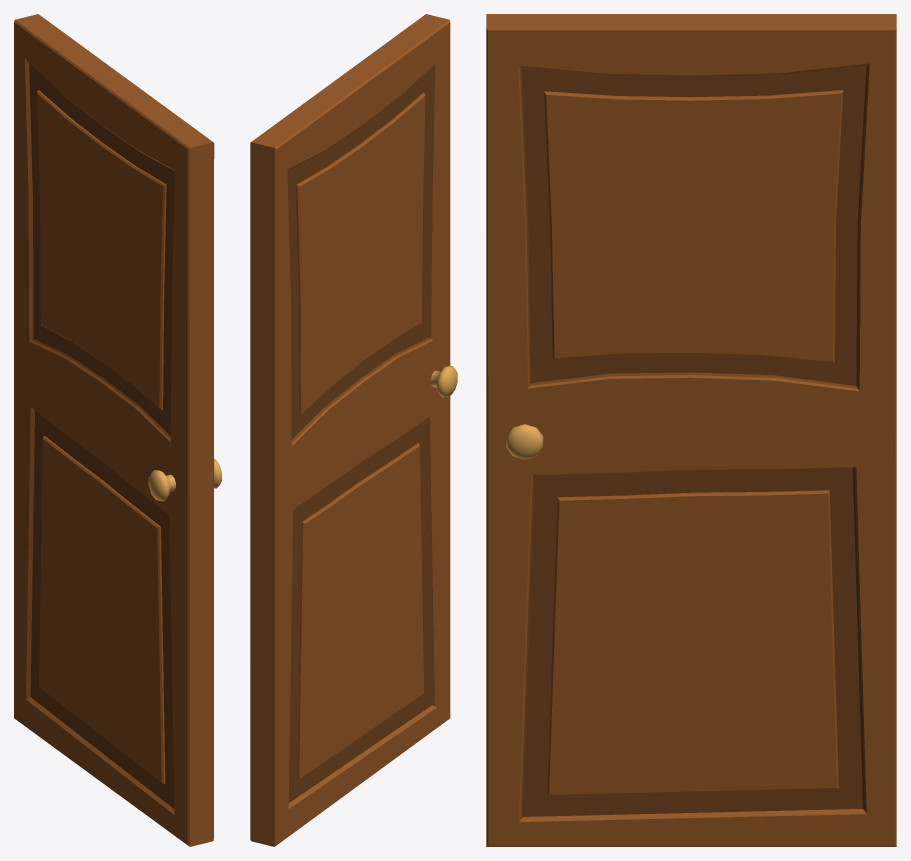
File: Door.fbx
3 views of the same model, side by side, from view 1: azimuth 30°, elevation 25°; view 2: azimuth 150°, elevation 25°; view 3: azimuth 270°, elevation 25° (orthographic). The views are drawn at different scales.
Parts seen in each view (by area): view 1: Door; view 2: Door; view 3: Door.
Part boxes in pixels (<box>): Door: <box>14,14,221,846</box>; Door: <box>250,14,457,846</box>; Door: <box>486,14,896,846</box>.
Size of the model in its own units: 0.2018 by 2.02 by 0.9182.
